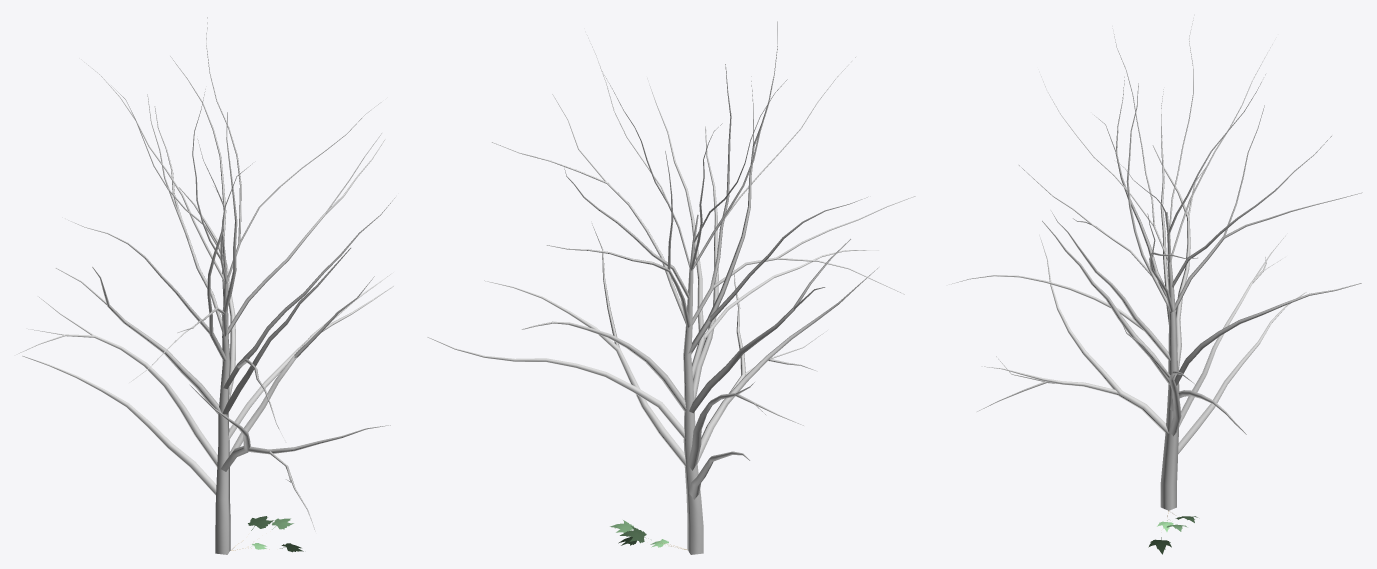
Rendered from DeadTree1.fbx.
The picture shows the model from 3 angles, left to right: view 1: azimuth 30°, elevation 25°; view 2: azimuth 150°, elevation 25°; view 3: azimuth 270°, elevation 25°; orthographic projection. The views are drawn at different scales.
Visible parts, largest first — view 1: Tree, tree.001; view 2: Tree, tree.001; view 3: Tree.
Part boxes in pixels (x1,y1,x2,y2): Tree: (16,17,395,554); tree.001: (230,516,303,552); Tree: (427,21,915,554); tree.001: (610,520,686,549); Tree: (949,14,1362,510).
Size of the model in its own units: 1478 by 1925 by 1541.
